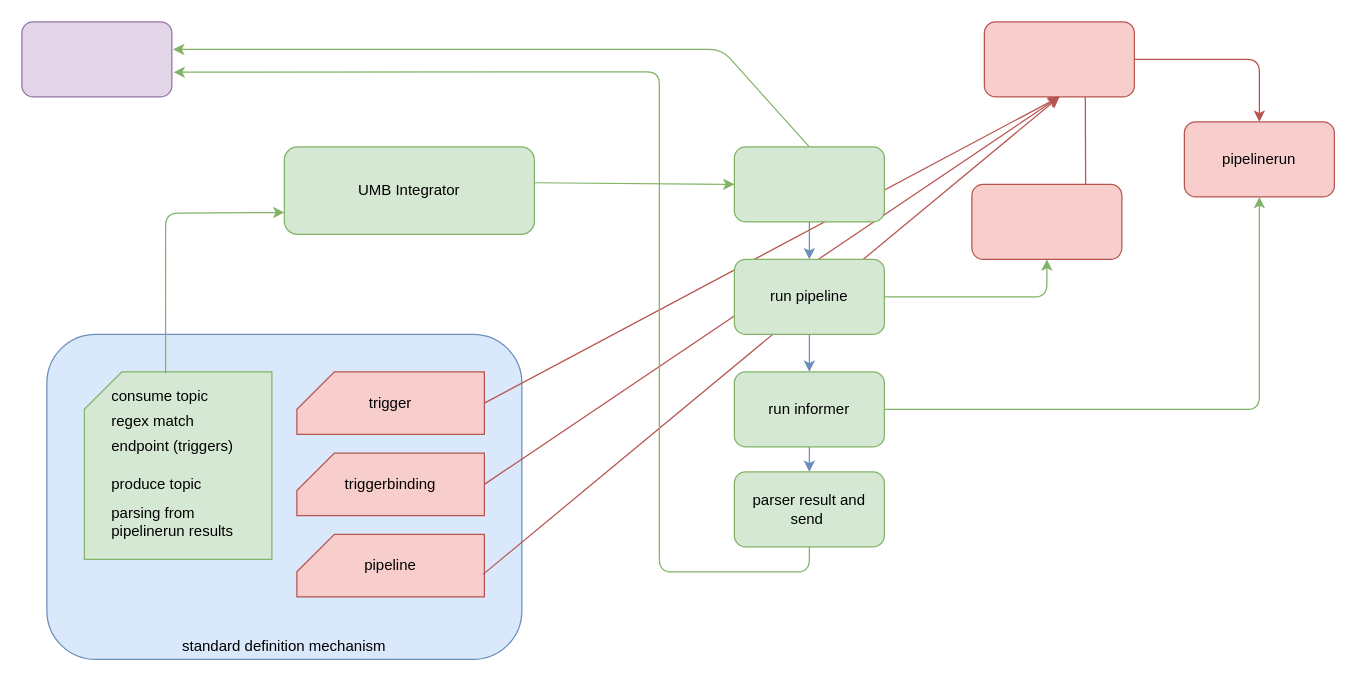
Some shapes in this 1356 by 681 pixel diagram are drawn without their labels. Here are the shapes that lost their labels. From the top down, the centre of each, then its label:
At [96,59]: "UMB".
At [1058,59]: "Tekton".
At [808,184]: "consumer".
At [1046,221]: "trigger-endpoint".
